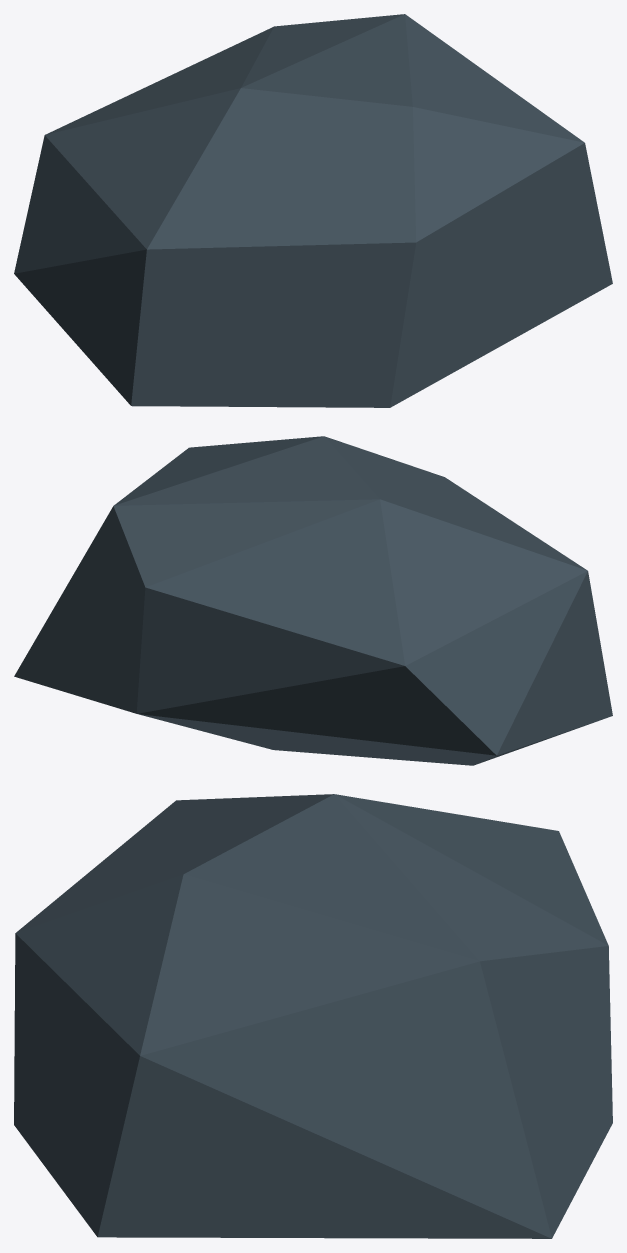
File: rock1.fbx
3 views of the same model, one above another, from view 1: azimuth 30°, elevation 25°; view 2: azimuth 150°, elevation 25°; view 3: azimuth 270°, elevation 25° (orthographic). The views are drawn at different scales.
Parts seen in each view (by area): view 1: Sphere; view 2: Sphere; view 3: Sphere.
Part boxes in pixels (box(x1,y1,x2,y2)): Sphere: box(14, 14, 612, 407); Sphere: box(14, 436, 612, 765); Sphere: box(14, 794, 612, 1238).
Bounding box in the file's own units: 192 × 96.82 × 161.
